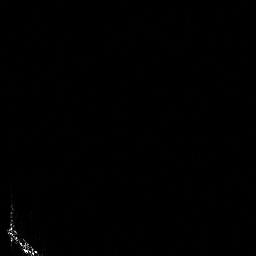ship: (4, 201, 41, 256)
